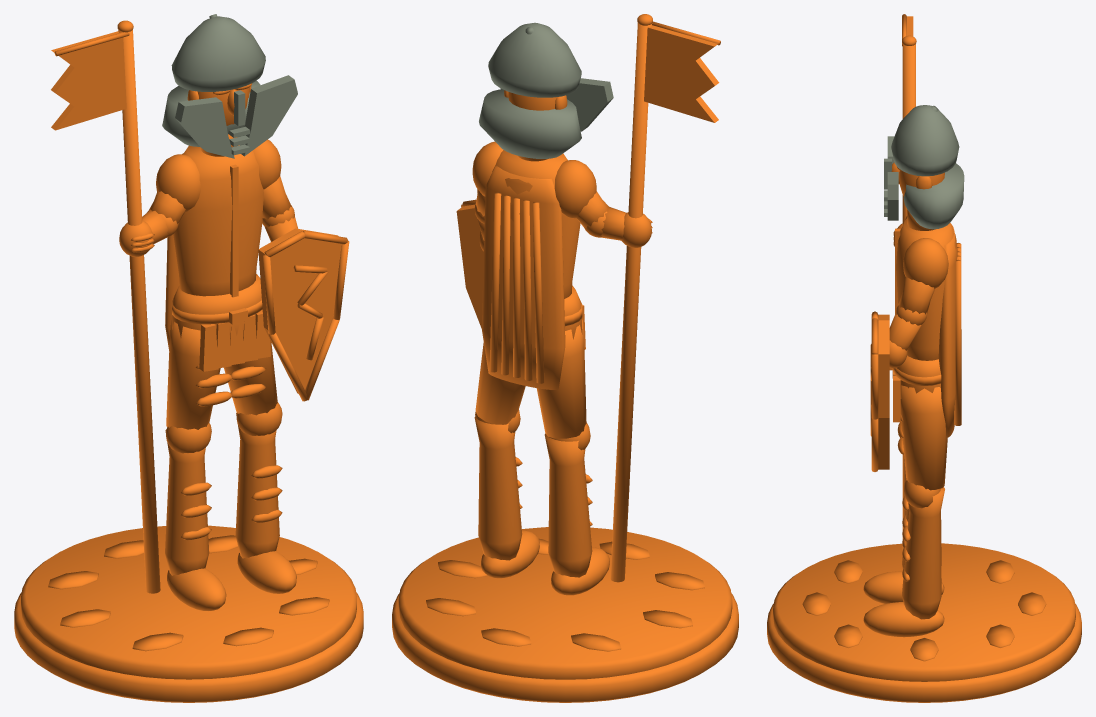
The model's file is knight-orange-level-3-helmet.fbx.
3 views of the same model, side by side, from view 1: azimuth 30°, elevation 25°; view 2: azimuth 150°, elevation 25°; view 3: azimuth 270°, elevation 25° (orthographic). The views are drawn at different scales.
Parts seen in each view (by area): view 1: Knight_Level_3_Helmet_Sculpt; view 2: Knight_Level_3_Helmet_Sculpt; view 3: Knight_Level_3_Helmet_Sculpt.
Part boxes in pixels (<box>): Knight_Level_3_Helmet_Sculpt: <box>14,14,363,702</box>; Knight_Level_3_Helmet_Sculpt: <box>392,14,738,702</box>; Knight_Level_3_Helmet_Sculpt: <box>767,14,1081,702</box>.
Size of the model in its own units: 0.012 by 0.024 by 0.012.
